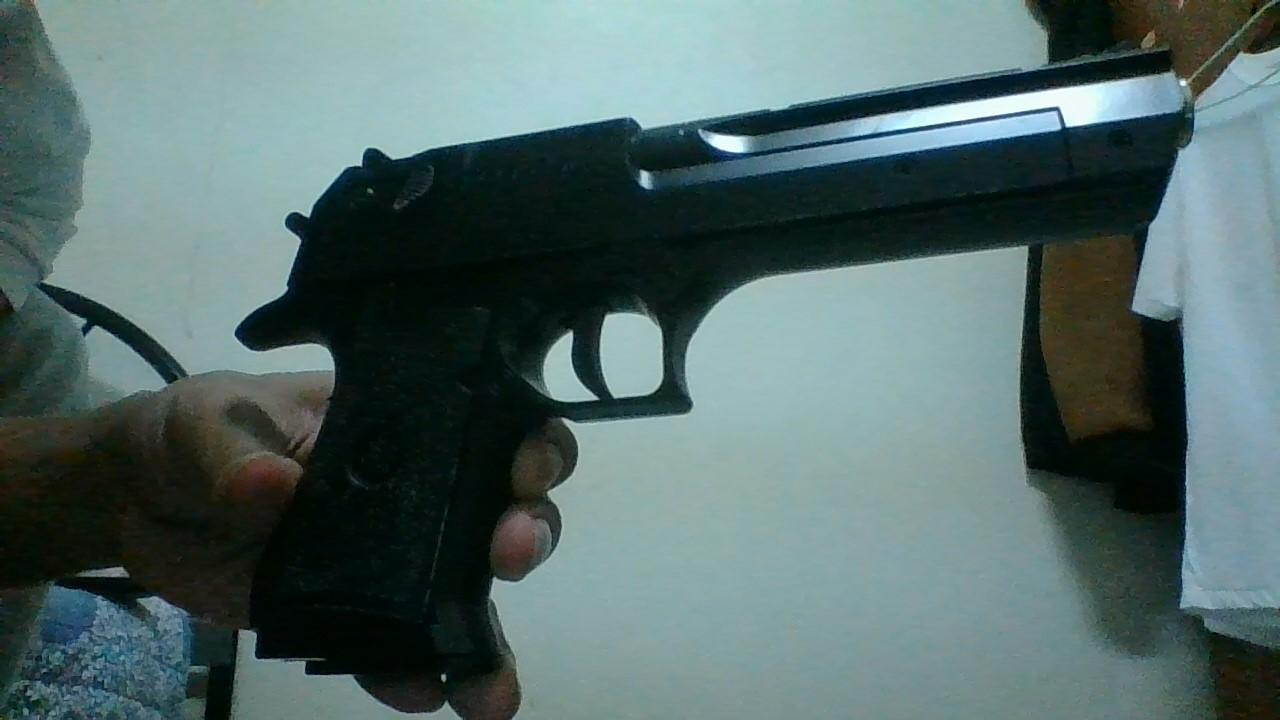weapon: (234, 40, 1197, 682)
